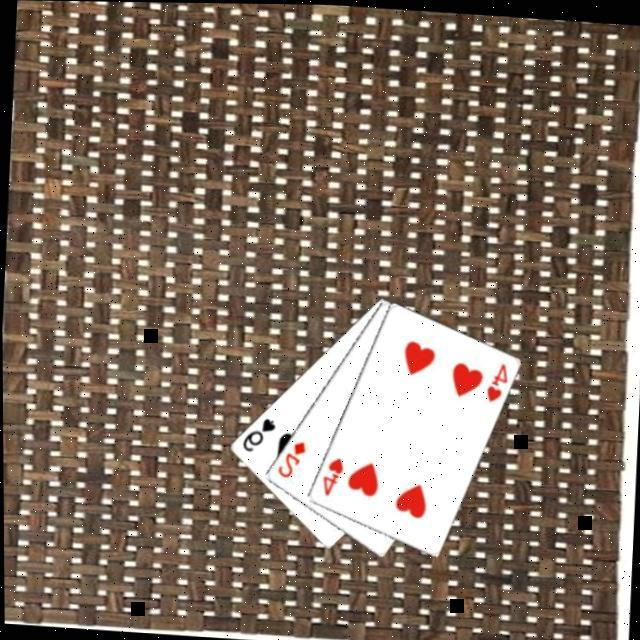2D: (272, 435, 306, 480)
4H: (316, 452, 344, 498), (480, 357, 508, 403)
6S: (236, 412, 276, 454)
